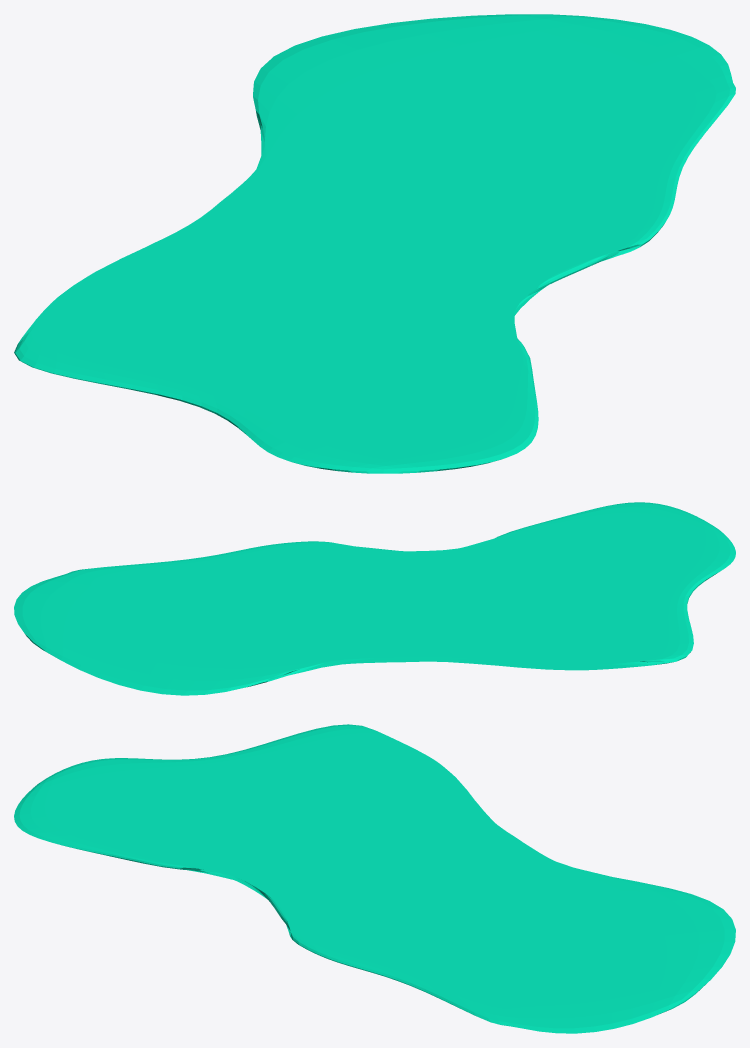
Rendered from puddle2.fbx.
3 renders of one model, top to bottom at view 1: azimuth 30°, elevation 25°; view 2: azimuth 150°, elevation 25°; view 3: azimuth 270°, elevation 25°, orthographic. The views are drawn at different scales.
Parts seen in each view (by area): view 1: Plane.002; view 2: Plane.002; view 3: Plane.002.
Boxes of the visible parts, box(x1,y1,x2,y2) form: Plane.002: box(14, 14, 735, 473); Plane.002: box(14, 502, 735, 695); Plane.002: box(14, 724, 735, 1033).
Size of the model in its own units: 641 by 3.4 by 633.
